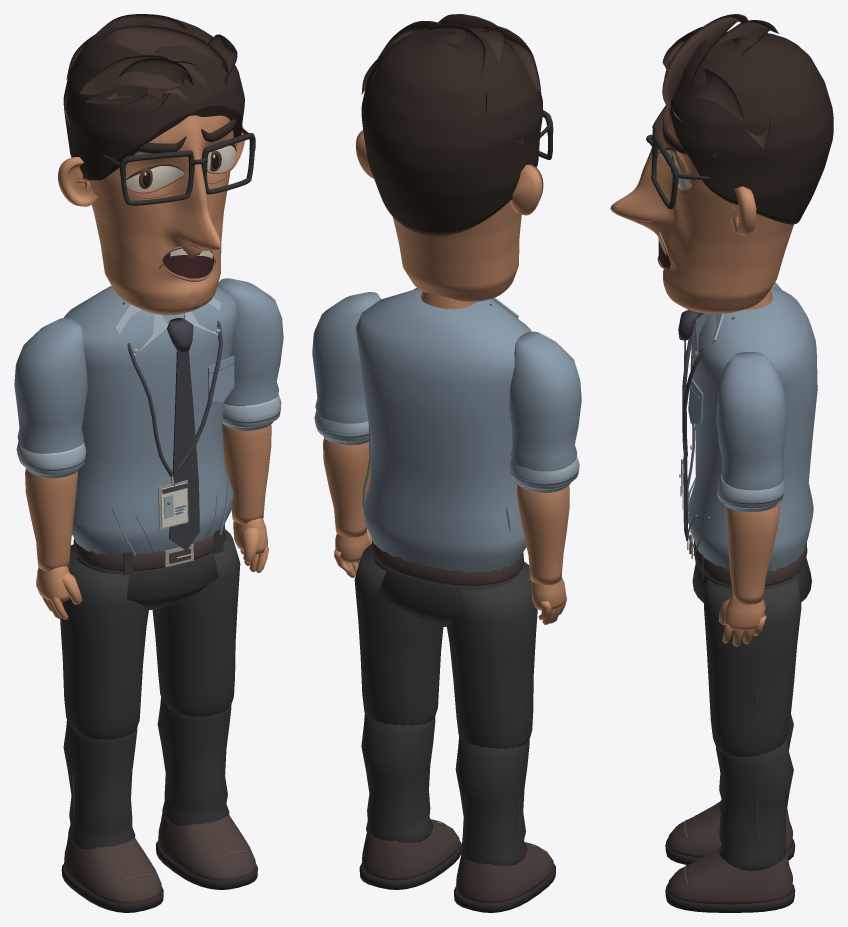
Rendered from park_office.glb.
The picture shows the model from 3 angles, left to right: view 1: azimuth 30°, elevation 25°; view 2: azimuth 150°, elevation 25°; view 3: azimuth 270°, elevation 25°; orthographic projection.
Parts seen in each view (by area): view 1: ParkHead geometry, ParkTorso geometry, ParkThighLeft geometry, ParkThighRight geometry, ParkArmLeft geometry, ParkShinRight geometry, ParkShinLeft geometry, ParkArmRight geometry, ParkFootLeft geometry, ParkFootRight geometry, ParkElbowLeft geometry, ParkElbowRight geometry (+4 smaller); view 2: ParkTorso geometry, ParkHead geometry, ParkThighLeft geometry, ParkThighRight geometry, ParkArmLeft geometry, ParkShinLeft geometry, ParkShinRight geometry, ParkArmRight geometry, ParkElbowLeft geometry, ParkElbowRight geometry, ParkFootLeft geometry, ParkFootRight geometry; view 3: ParkHead geometry, ParkTorso geometry, ParkThighRight geometry, ParkArmRight geometry, ParkShinRight geometry, ParkFootRight geometry, ParkElbowRight geometry, ParkFootLeft geometry, ParkTie geometry.
Part boxes in pixels (left/top/right/bottom): ParkHead geometry: left=58, top=14, right=255, bottom=315; ParkTorso geometry: left=64, top=286, right=238, bottom=609; ParkThighLeft geometry: left=60, top=544, right=148, bottom=739; ParkThighRight geometry: left=152, top=529, right=240, bottom=716; ParkArmLeft geometry: left=14, top=318, right=87, bottom=478; ParkShinRight geometry: left=157, top=697, right=231, bottom=825; ParkShinLeft geometry: left=63, top=720, right=137, bottom=848; ParkArmRight geometry: left=217, top=278, right=283, bottom=430; ParkFootLeft geometry: left=61, top=835, right=163, bottom=912; ParkFootRight geometry: left=156, top=812, right=257, bottom=889; ParkElbowLeft geometry: left=25, top=469, right=82, bottom=619; ParkElbowRight geometry: left=222, top=423, right=271, bottom=572; ParkTorso geometry: left=355, top=288, right=531, bottom=626; ParkHead geometry: left=355, top=14, right=553, bottom=301; ParkThighLeft geometry: left=447, top=561, right=537, bottom=748; ParkThighRight geometry: left=354, top=544, right=443, bottom=725; ParkArmLeft geometry: left=509, top=331, right=581, bottom=493; ParkShinLeft geometry: left=455, top=736, right=529, bottom=865; ParkShinRight geometry: left=361, top=714, right=435, bottom=842; ParkArmRight geometry: left=312, top=292, right=380, bottom=445; ParkElbowLeft geometry: left=516, top=484, right=569, bottom=624; ParkElbowRight geometry: left=323, top=438, right=372, bottom=577; ParkFootLeft geometry: left=454, top=842, right=555, bottom=912; ParkFootRight geometry: left=359, top=819, right=461, bottom=889; ParkHead geometry: left=610, top=14, right=833, bottom=313; ParkTorso geometry: left=679, top=287, right=817, bottom=603; ParkThighRight geometry: left=704, top=576, right=801, bottom=756; ParkArmRight geometry: left=716, top=352, right=787, bottom=511; ParkShinRight geometry: left=716, top=739, right=793, bottom=870; ParkFootRight geometry: left=665, top=846, right=795, bottom=912; ParkElbowRight geometry: left=718, top=502, right=779, bottom=646; ParkFootLeft geometry: left=665, top=801, right=795, bottom=864; ParkTie geometry: left=678, top=309, right=699, bottom=540.
Bounding box in the file's own units: 0.684 × 2.17 × 0.5197.
